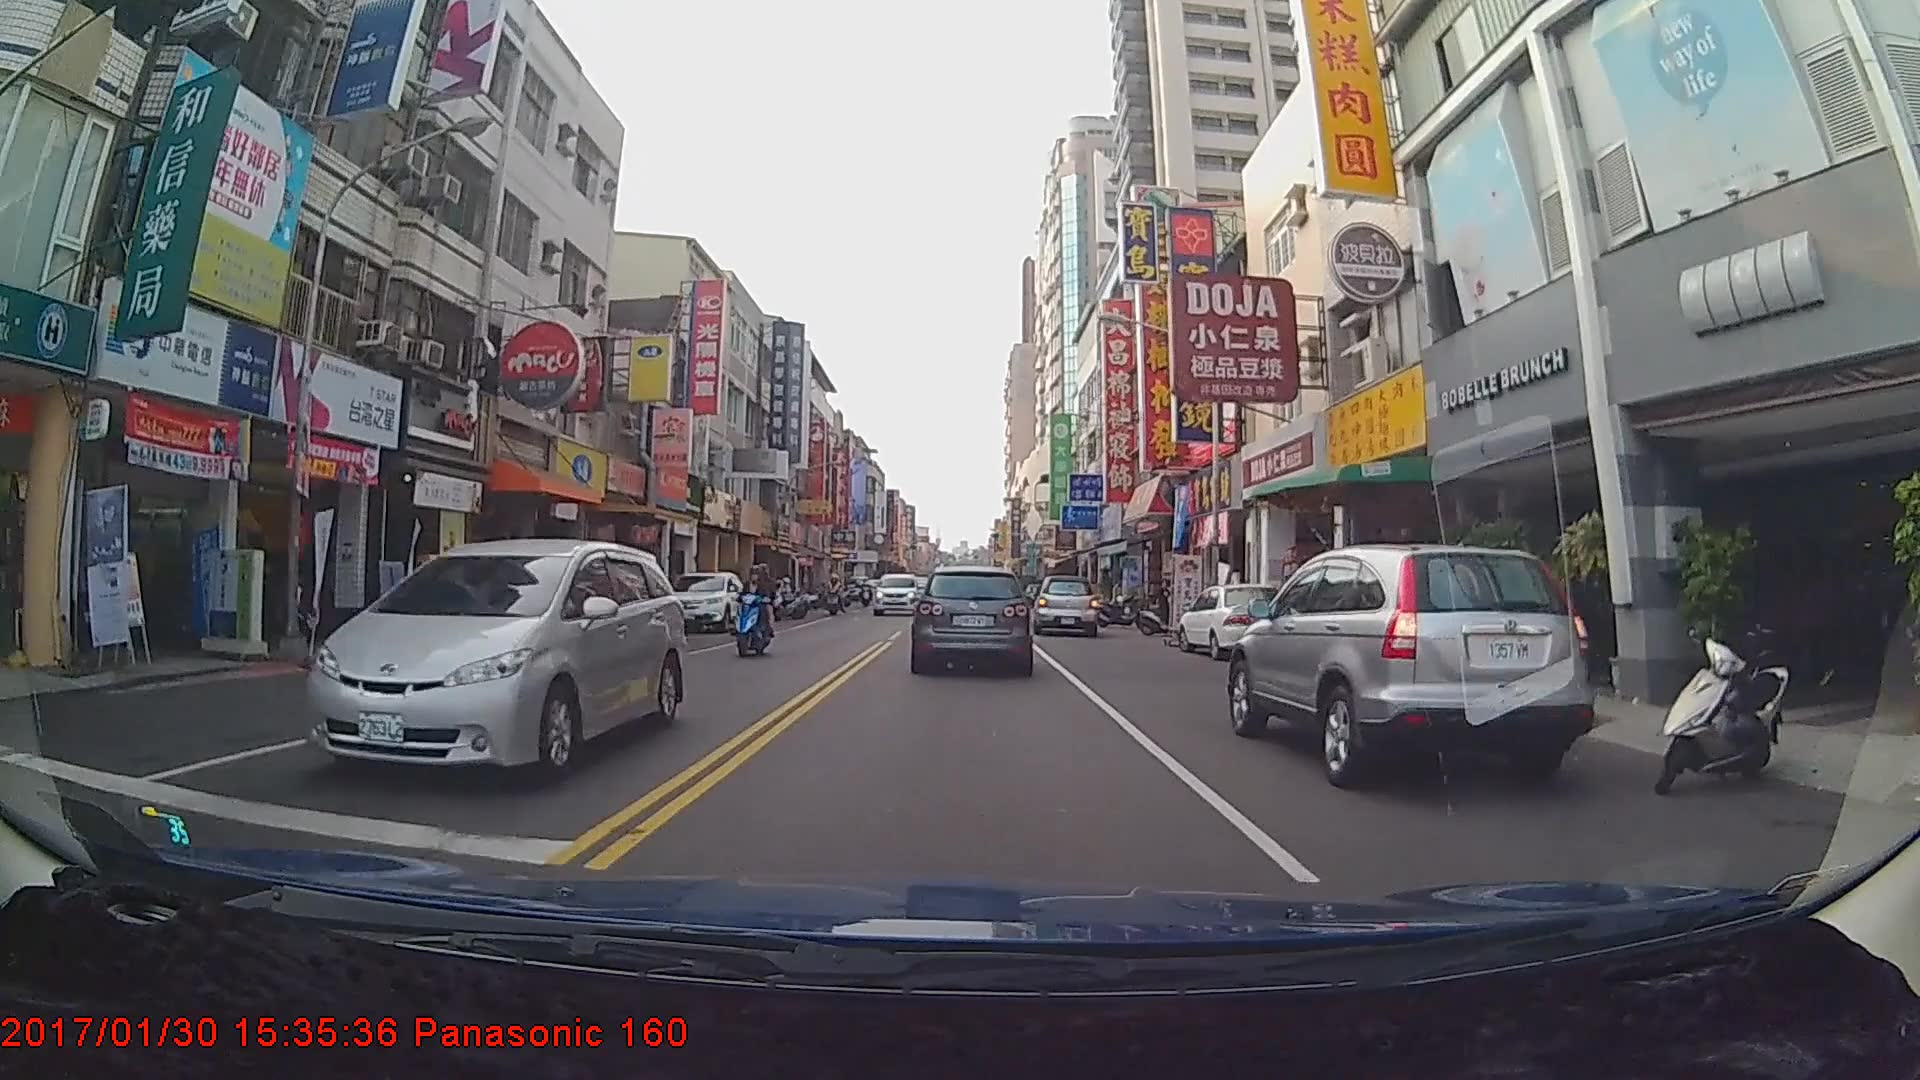rider: (723, 566, 781, 662), (1135, 579, 1191, 638)
vehicle: (301, 537, 689, 791), (1227, 539, 1591, 788), (910, 565, 1031, 673), (1174, 581, 1294, 657), (660, 570, 750, 633), (1032, 574, 1101, 637), (873, 573, 921, 616)
